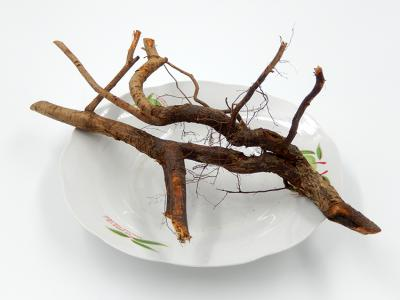Root: (30, 38, 380, 243), (104, 31, 140, 91), (105, 31, 140, 91), (84, 94, 103, 112), (86, 94, 102, 111)
